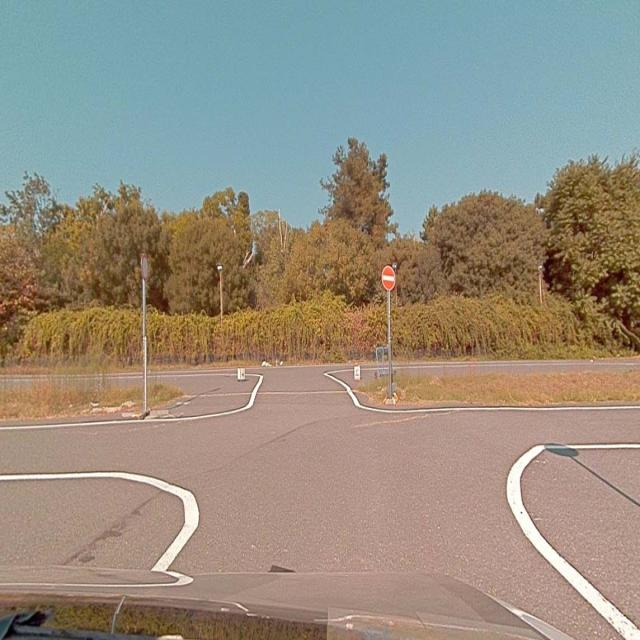girisyok: (381, 266, 395, 290)
